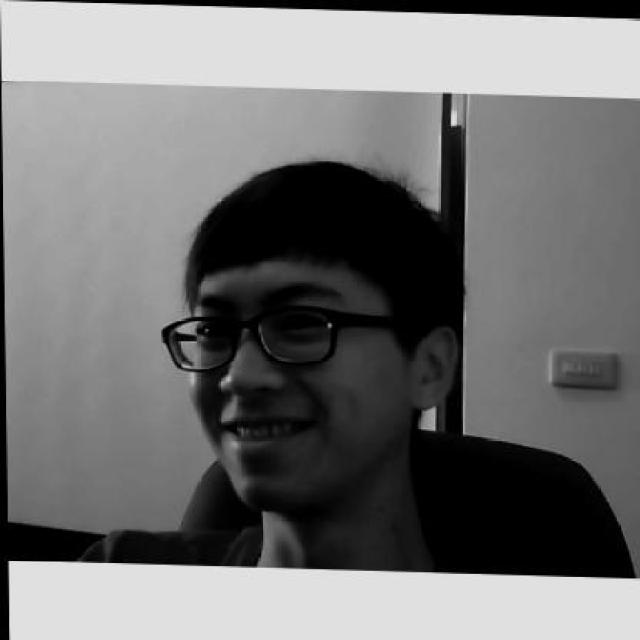attentif: (160, 155, 460, 514)
